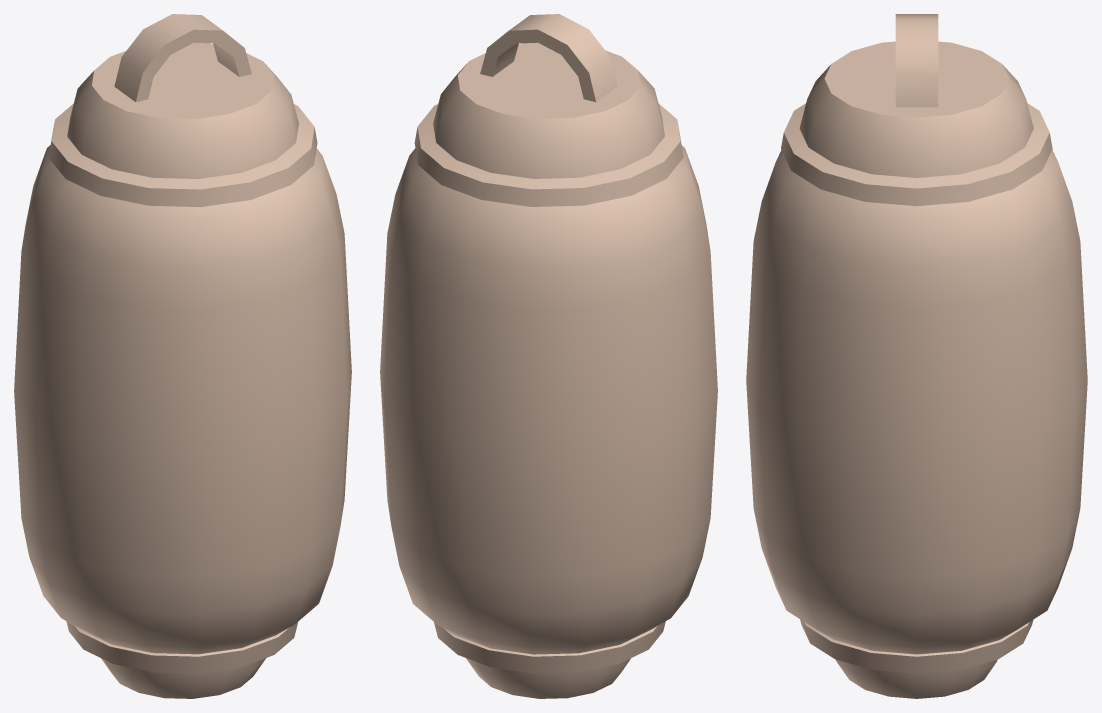
File: lantern_03.fbx
3 views of the same model, side by side, from view 1: azimuth 30°, elevation 25°; view 2: azimuth 150°, elevation 25°; view 3: azimuth 270°, elevation 25° (orthographic).
Visible parts, largest first — view 1: lantern_03; view 2: lantern_03; view 3: lantern_03.
Part boxes in pixels (x1,y1,x2,y2): lantern_03: [14, 14, 351, 698]; lantern_03: [380, 14, 717, 698]; lantern_03: [746, 14, 1087, 698].
Bounding box in the file's own units: 31.8 × 66.56 × 31.8.
